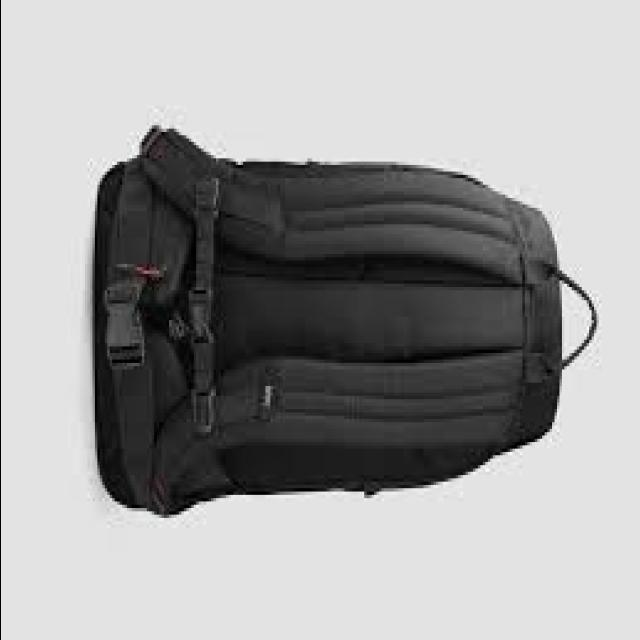backpack: (95, 124, 599, 516)
